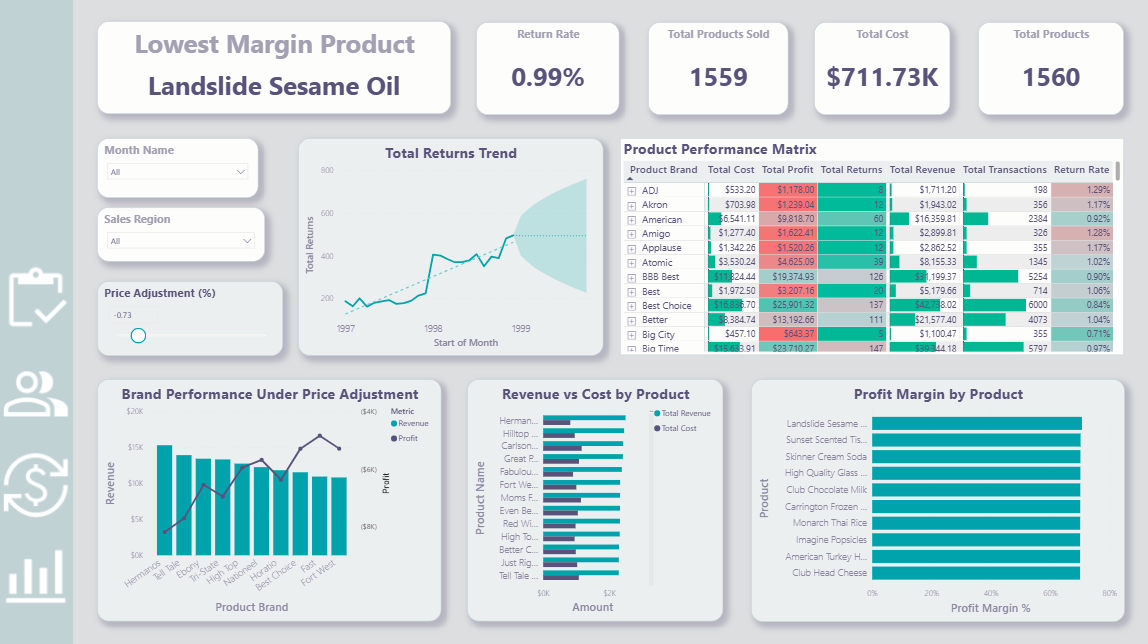

What the dashboard file says about the page in this screenshot:
{"tool":"powerbi","page":{"name":"Product Profitability & Returns","canvas":[1920,1080],"ordinal":3},"visuals":[{"type":"card","title":"Lowest Margin Product","fields":{"Values":["Min(Products.product_name)"]},"box":[164.3,39.1,590.1,155],"z":0},{"type":"card","title":"Total Products Sold","fields":{"Values":["Measure Table.Total Products Sold"]},"box":[1083.3,39.6,233.9,154.8],"z":1000},{"type":"card","title":"Total Cost","fields":{"Values":["Measure Table.Total Cost"]},"box":[1360.4,39.6,226.7,154.8],"z":2000},{"type":"card","title":"Return Rate","fields":{"Values":["Measure Table.Return Rate"]},"box":[797.2,39.6,239.3,154.8],"z":3000},{"type":"pivotTable","title":"Product Performance Matrix","fields":{"Values":["Measure Table.Total Cost","Measure Table.Total Profit","Measure Table.Total Returns","Measure Table.Total Revenue","Measure Table.Total Transactions","Measure Table.Return Rate"],"Rows":["Products.product_brand","Products.product_name"]},"box":[1036.5,233.9,840.3,361.7],"z":4000},{"type":"lineChart","title":"Total Returns Trend","fields":{"Y":["Measure Table.Total Returns"],"Category":["Calendar.Custom Date Hierarchy.Start of Month"]},"box":[499.3,233.2,508.7,363.1],"z":5000},{"type":"clusteredBarChart","title":"Profit Margin by Product","fields":{"Category":["Products.product_name"],"Y":["Measure Table.Profit Margin %"]},"box":[1254.2,635.2,622.6,404.9],"z":6000},{"type":"clusteredBarChart","title":"Revenue vs Cost by Product","fields":{"Category":["Products.product_name"],"Y":["Measure Table.Total Revenue","Measure Table.Total Cost"]},"box":[781,635.5,427.3,403.8],"z":7000},{"type":"lineClusteredColumnComboChart","title":"Brand Performance Under Price Adjustment","fields":{"Category":["Products.product_brand"],"Y":["Measure Table.Adjusted Revenue"],"Y2":["Measure Table.Adjusted Profit"]},"box":[164.3,635.5,574.4,403.8],"z":8000},{"type":"shape","box":[0,0,125,1080],"z":9000,"group":"g1"},{"type":"slicer","title":"Sales Region","fields":{"Values":["Regions.sales_region"]},"box":[164.3,349,280.2,90.8],"z":9000},{"type":"slicer","title":"Month Name","fields":{"Values":["Calendar.Month Name"]},"box":[164.3,233.2,269.2,100.2],"z":10000},{"type":"slicer","title":"Price Adjustment (%)","fields":{"Values":["Price Adjustment (%).Price Adjustment (%)"]},"box":[164.3,471.1,309.9,125.2],"z":11000},{"type":"group","id":"g1","title":"Group 1","box":[0,0,126.8,1080],"z":12000},{"type":"actionButton","box":[0,902,126,126],"z":12000,"group":"g1"},{"type":"card","title":"Total Products","fields":{"Values":["Measure Table.Total Products"]},"box":[1633.9,39.6,242.9,154.8],"z":13000},{"type":"actionButton","box":[0,750,126,124],"z":13000,"group":"g1"},{"type":"actionButton","box":[0,596,126,124],"z":14000,"group":"g1"},{"type":"actionButton","box":[0,440,126,126],"z":15000,"group":"g1"}]}

Visuals, with their boxes in screenshot pixels (x1, y1, x2, y2), scaled from the page's 1920x1080 canvas onto the 1148x644 screenshot:
"Lowest Margin Product" card: rect(98, 23, 451, 116)
"Total Products Sold" card: rect(648, 24, 788, 116)
"Total Cost" card: rect(813, 24, 949, 116)
"Return Rate" card: rect(477, 24, 620, 116)
"Product Performance Matrix" pivotTable: rect(620, 139, 1122, 355)
"Total Returns Trend" lineChart: rect(299, 139, 603, 356)
"Profit Margin by Product" clusteredBarChart: rect(750, 379, 1122, 620)
"Revenue vs Cost by Product" clusteredBarChart: rect(467, 379, 722, 620)
"Brand Performance Under Price Adjustment" lineClusteredColumnComboChart: rect(98, 379, 442, 620)
shape: rect(0, 0, 75, 643)
"Sales Region" slicer: rect(98, 208, 266, 262)
"Month Name" slicer: rect(98, 139, 259, 199)
"Price Adjustment (%)" slicer: rect(98, 281, 284, 356)
"Group 1" group: rect(0, 0, 76, 643)
actionButton: rect(0, 538, 75, 613)
"Total Products" card: rect(977, 24, 1122, 116)
actionButton: rect(0, 447, 75, 521)
actionButton: rect(0, 355, 75, 429)
actionButton: rect(0, 262, 75, 338)
